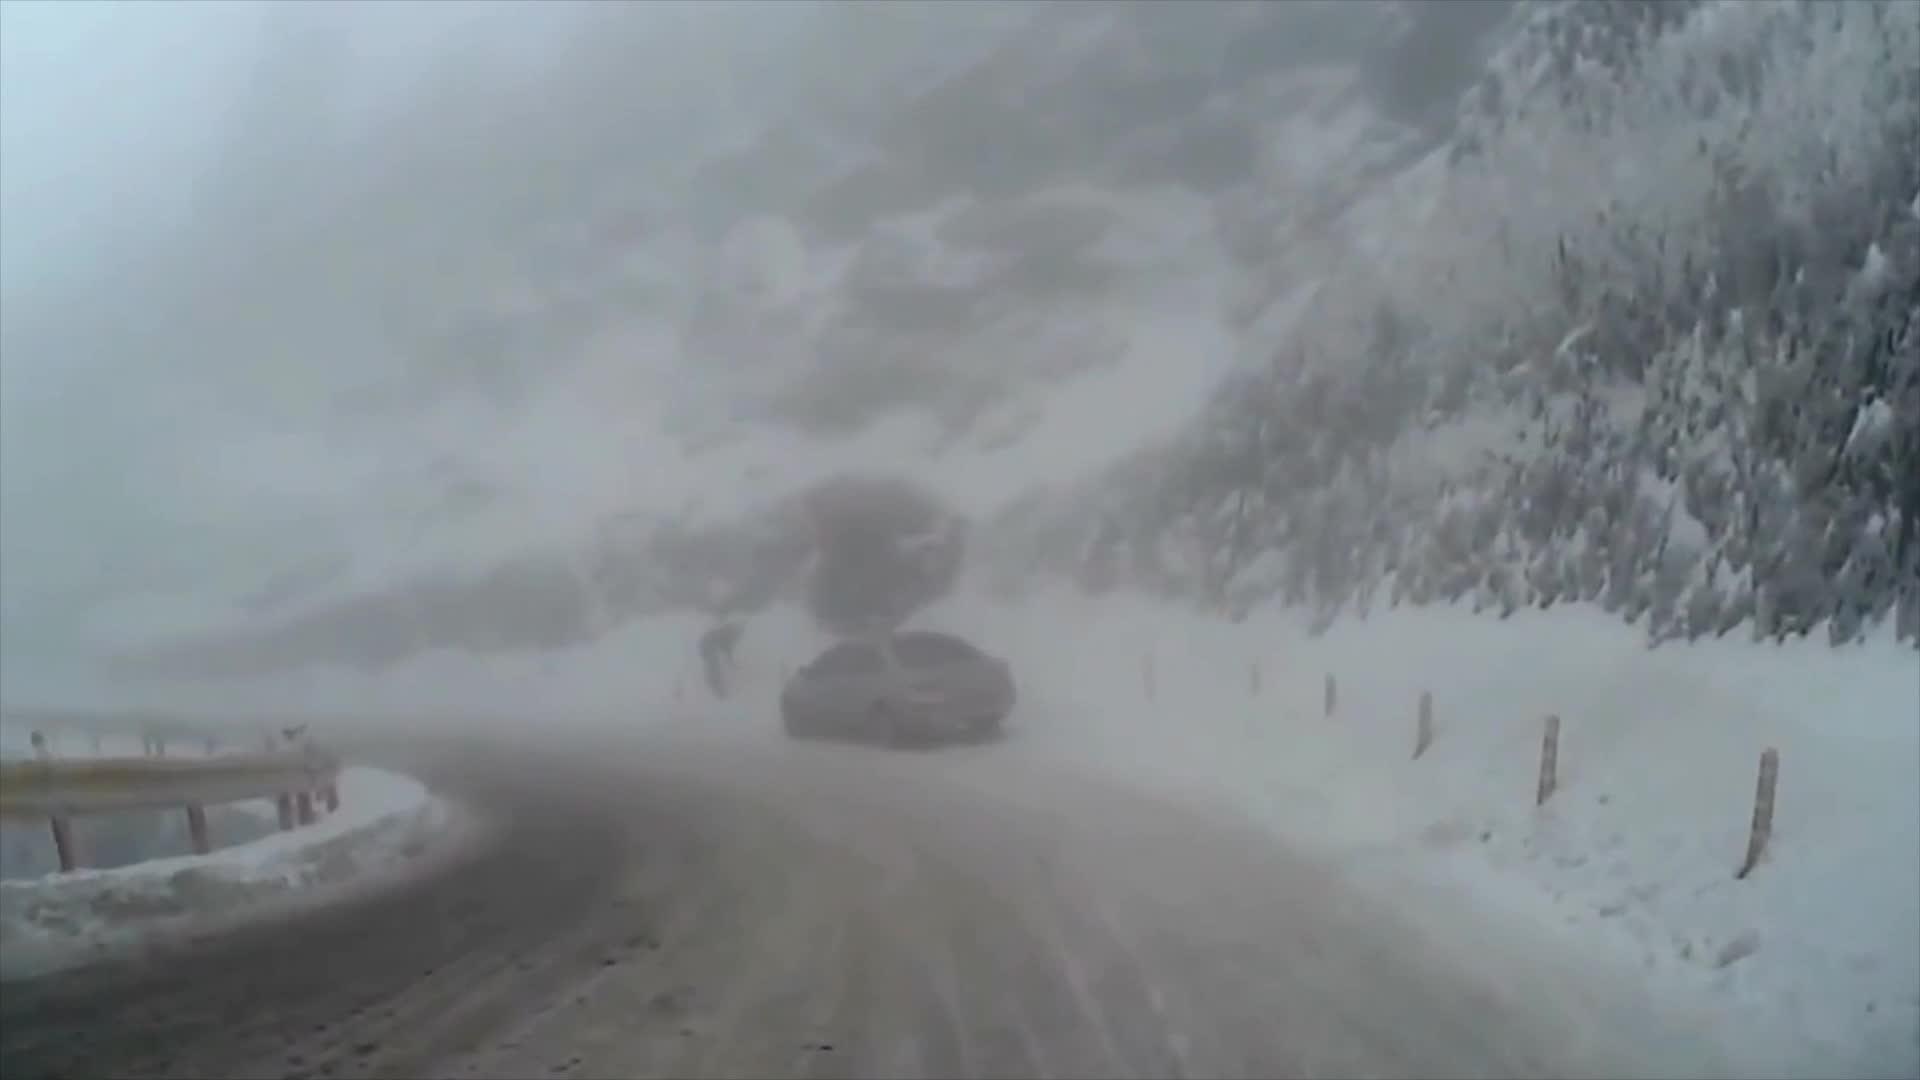pedestrian: (704, 624, 746, 705)
vehicle: (785, 637, 1020, 757)
